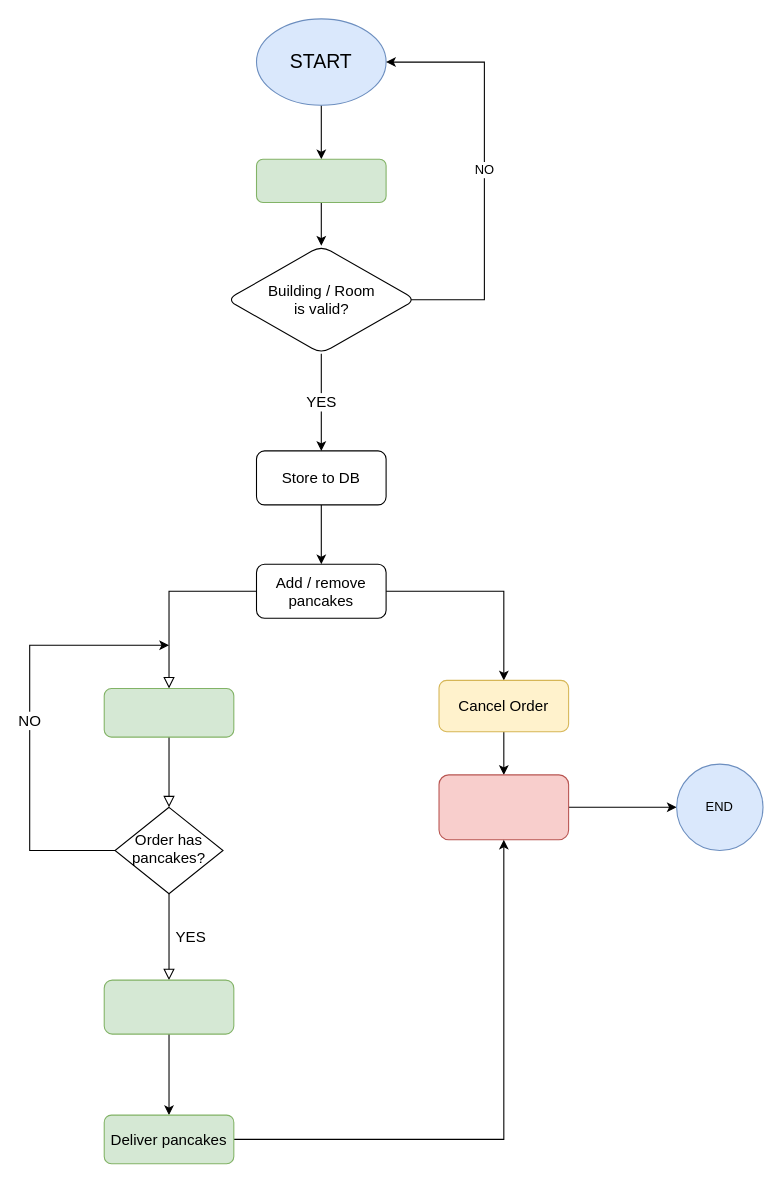
Some shapes in this 782 by 1183 pixel diagram are drawn without their labels. The shapes that lost their labels are listed below. From the top down, each one's centre as x and y in pixels, then its label:
(320,180): Create Order
(168,712): Complete Order
(503,807): Remove from DB
(168,1006): Prepare pancakes
